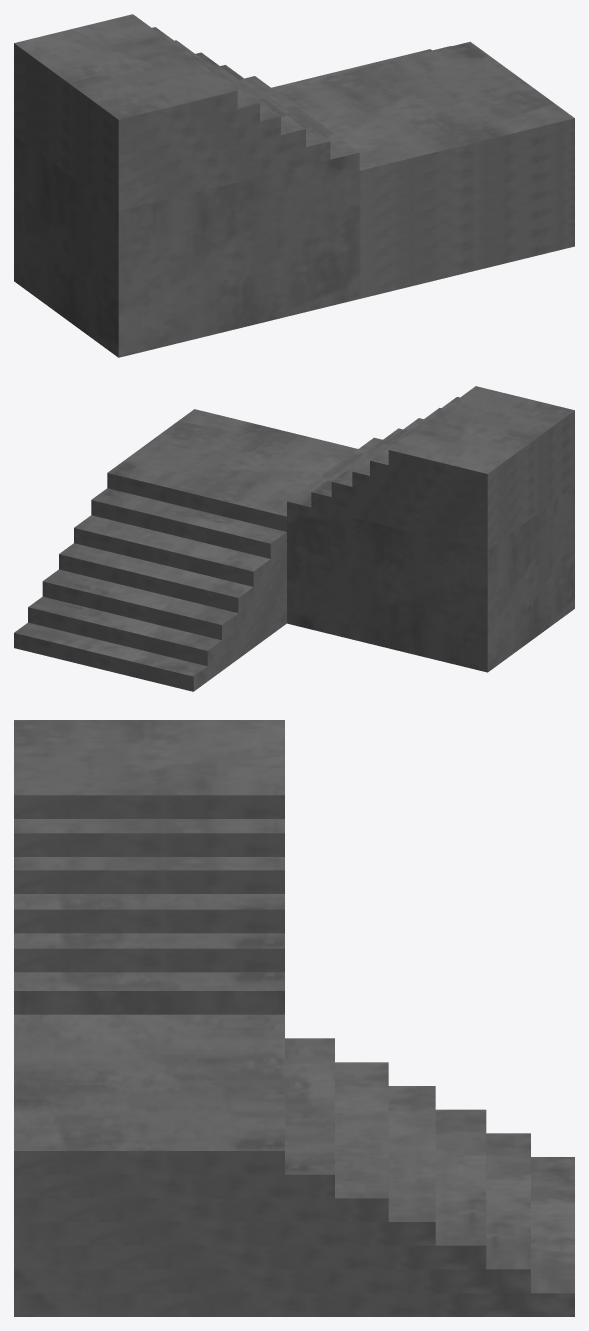
Rendered from stairs.fbx.
The picture shows the model from 3 angles, top to bottom: view 1: azimuth 30°, elevation 25°; view 2: azimuth 150°, elevation 25°; view 3: azimuth 270°, elevation 25°; orthographic projection. The views are drawn at different scales.
Parts seen in each view (by area): view 1: pCube421; view 2: pCube421; view 3: pCube421.
Boxes of the visible parts, x1,y1,x2,y2 form: pCube421: (14, 14, 574, 357); pCube421: (14, 386, 574, 691); pCube421: (14, 720, 574, 1316).
Size of the model in its own units: 5.4 by 2.69 by 4.44.
Materials: 1 (1 with a texture image).
